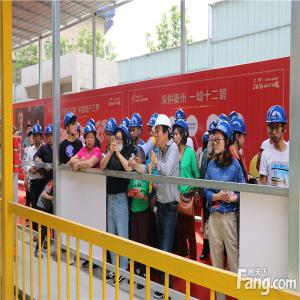blue: (269, 105, 287, 144), (213, 123, 231, 157), (230, 119, 247, 152), (83, 124, 97, 152), (173, 121, 188, 147), (115, 127, 130, 153), (130, 114, 143, 143), (63, 113, 78, 136), (105, 120, 118, 146), (148, 114, 160, 140), (32, 125, 43, 148), (45, 124, 55, 148), (209, 122, 218, 144)
none: (27, 125, 33, 135)
white: (154, 115, 173, 149)
